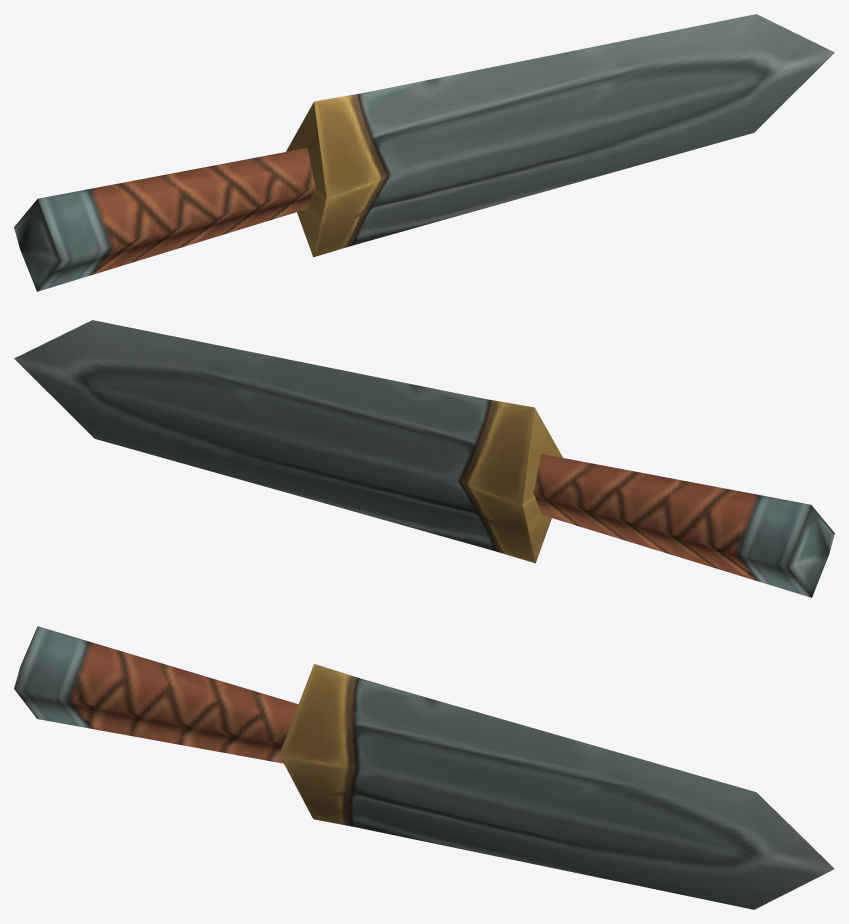
Rendered from DWF_Weapon_sword_A.FBX.
The picture shows the model from 3 angles, top to bottom: view 1: azimuth 30°, elevation 25°; view 2: azimuth 150°, elevation 25°; view 3: azimuth 330°, elevation 25°; orthographic projection.
Parts seen in each view (by area): view 1: DWF_Weapon_sword_A; view 2: DWF_Weapon_sword_A; view 3: DWF_Weapon_sword_A.
Part boxes in pixels (x1=…): DWF_Weapon_sword_A: x1=14, y1=14, x2=834, y2=291; DWF_Weapon_sword_A: x1=14, y1=320, x2=834, y2=597; DWF_Weapon_sword_A: x1=14, y1=626, x2=834, y2=909.
Bounding box in the file's own units: 39.54 × 7.22 × 3.97.
1 material, 1 textured.
